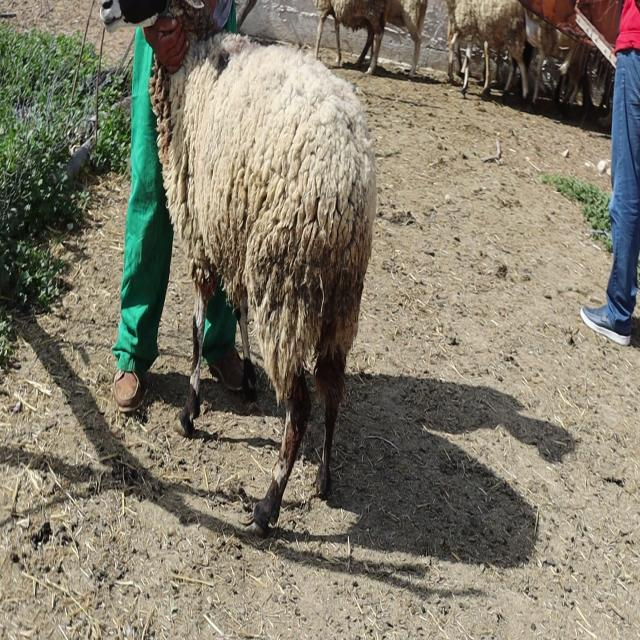Score_5: (117, 0, 376, 530)
